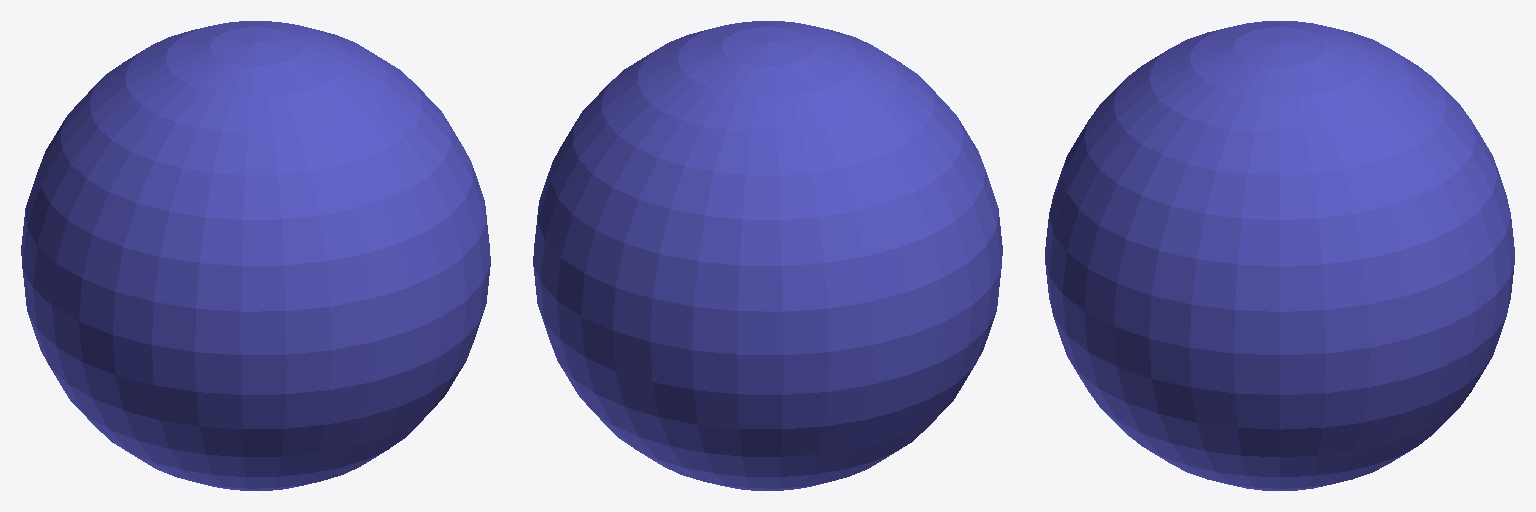
The model's file is smooth_sphere.obj.
The picture shows the model from 3 angles: view 1: azimuth 30°, elevation 25°; view 2: azimuth 150°, elevation 25°; view 3: azimuth 270°, elevation 25°; orthographic projection.
Size of the model in its own units: 9.02 by 9.02 by 9.02.